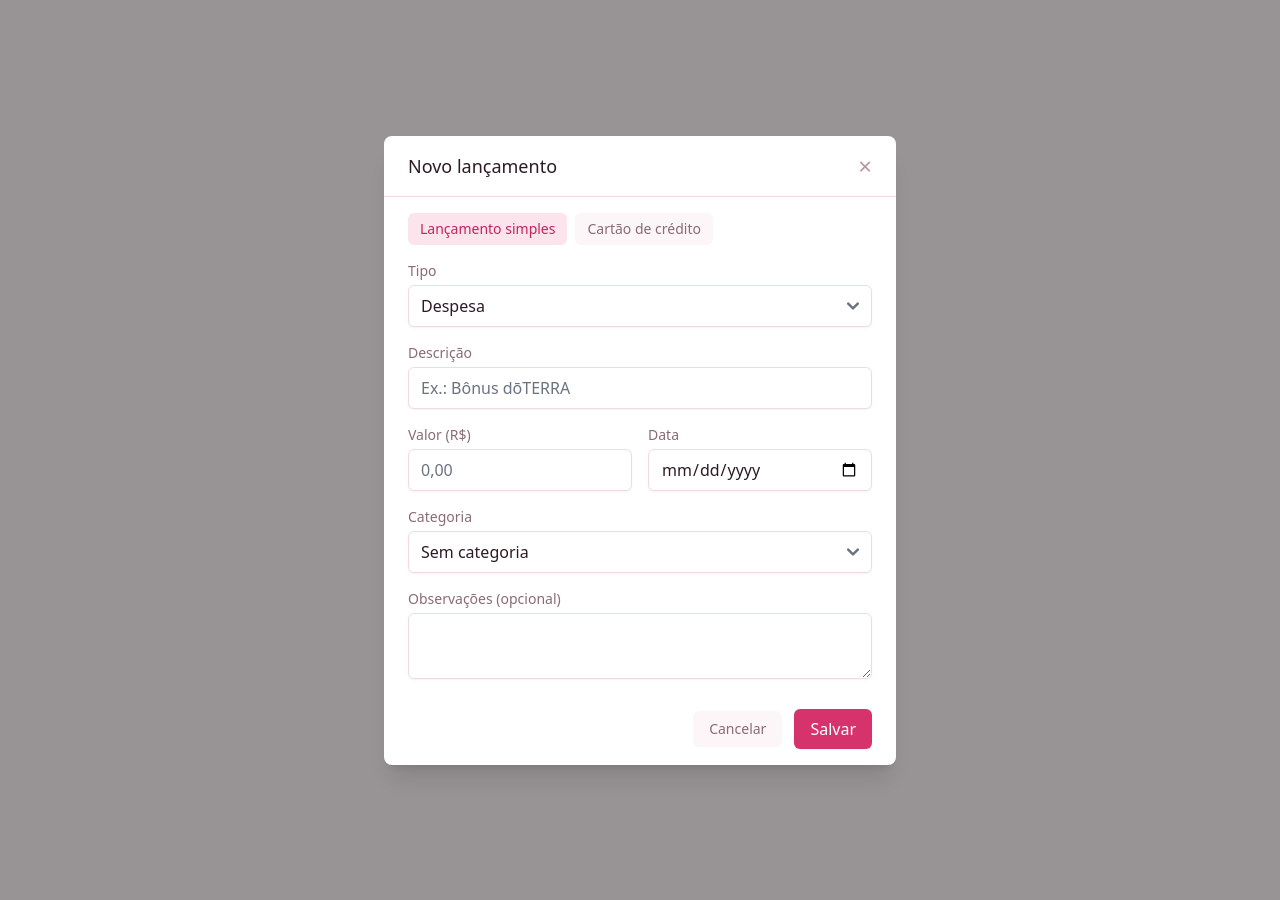
it: FinancialTransactionModal payment type branch › routes the credit-card cancel through the polite-close guard
Click the button "Cartão de crédito": (644, 228) [576,212,713,244]
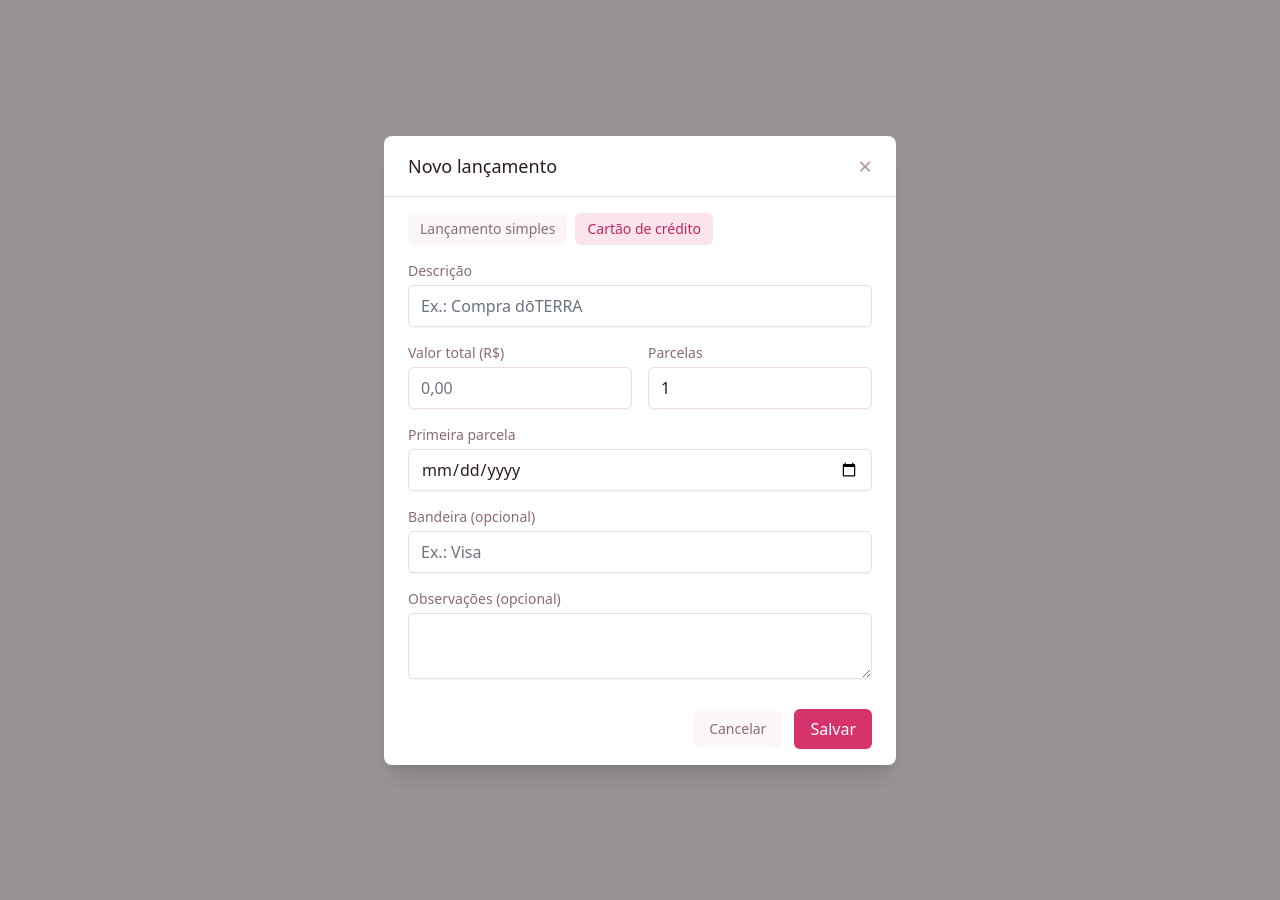
In the field labelled "Descrição": (640, 306) [408,284,872,326], type "rascunho"
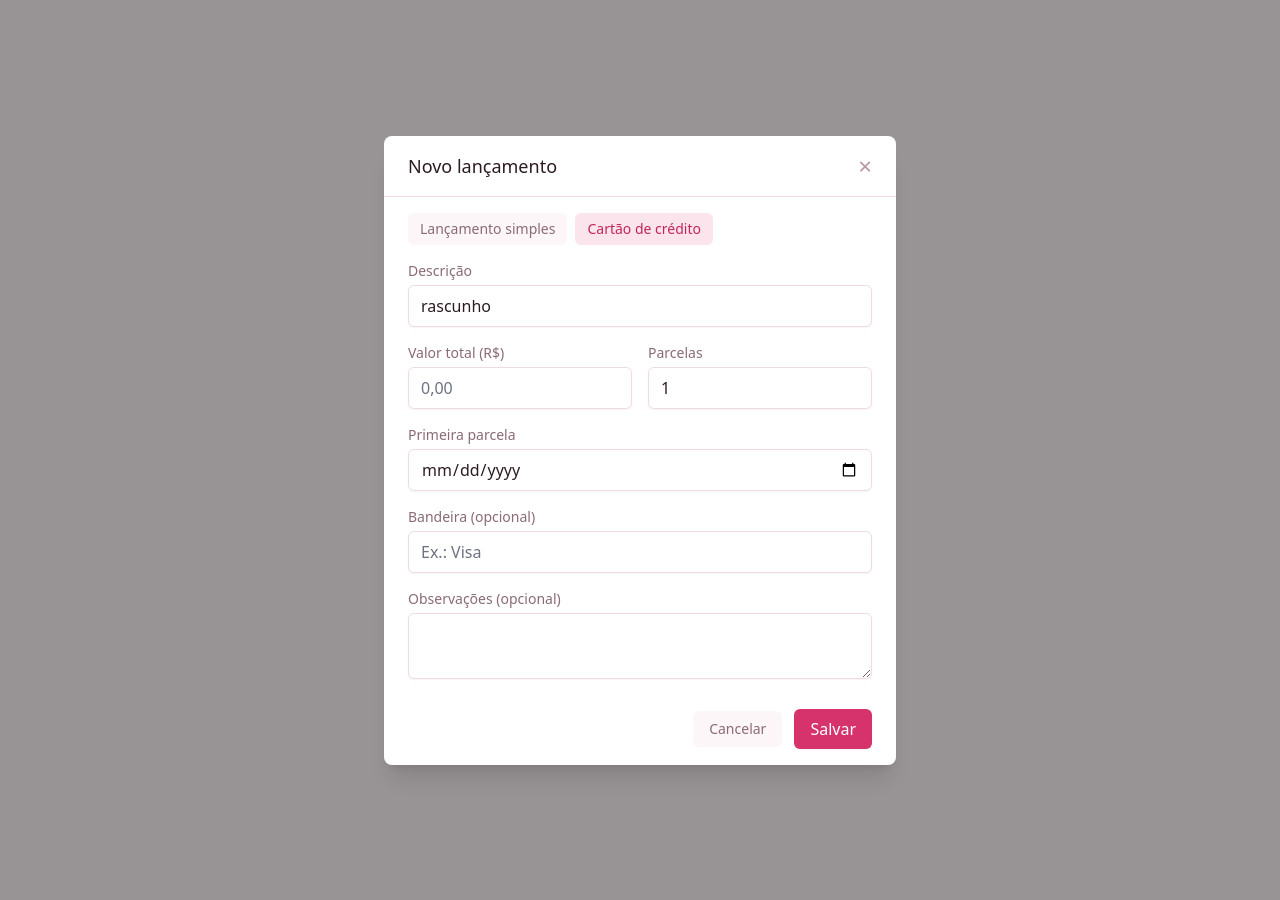
Click the button "Cancelar": (738, 728) [693,710,782,746]
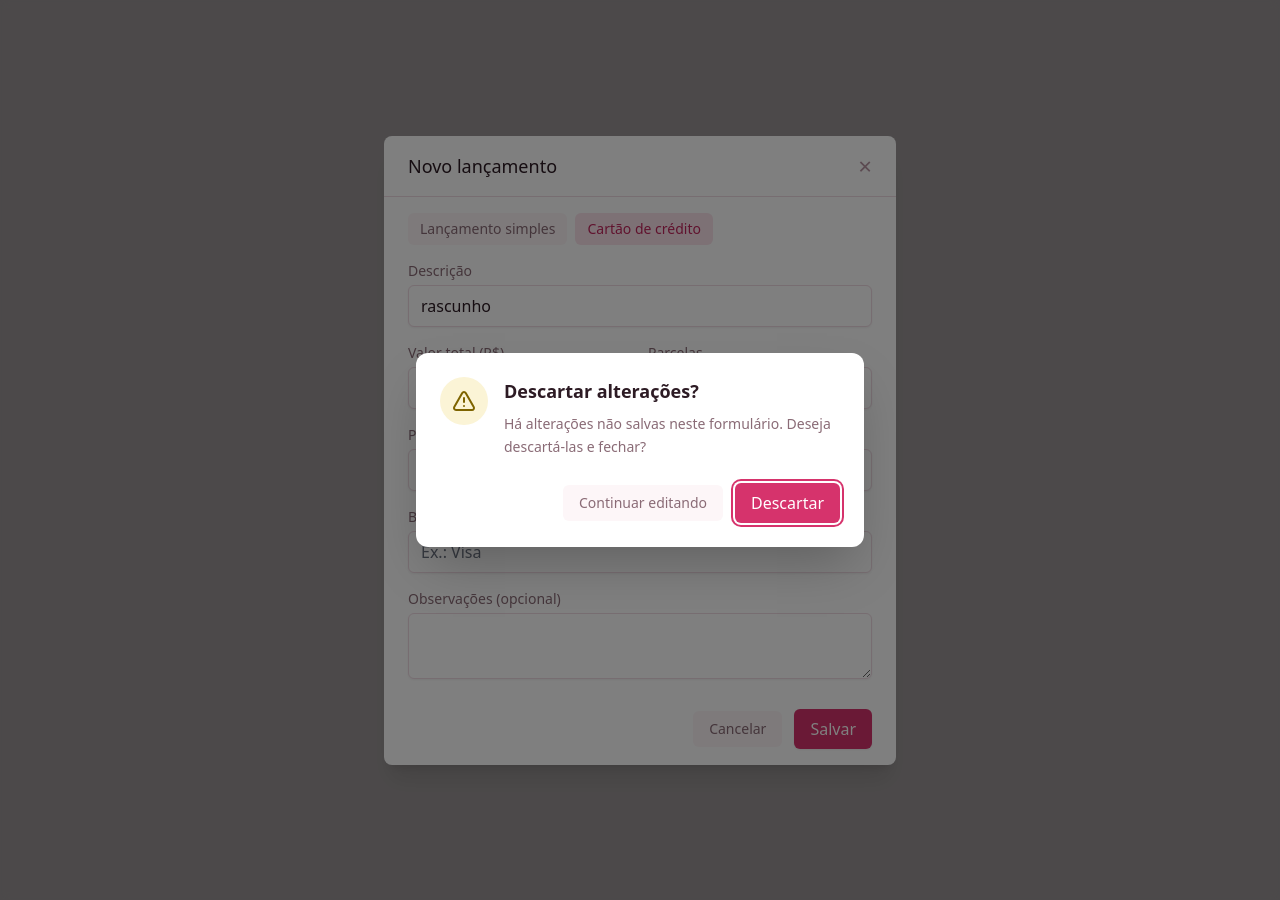
Expected: the heading "Descartar alterações?" is shown, [504,379,699,403]
